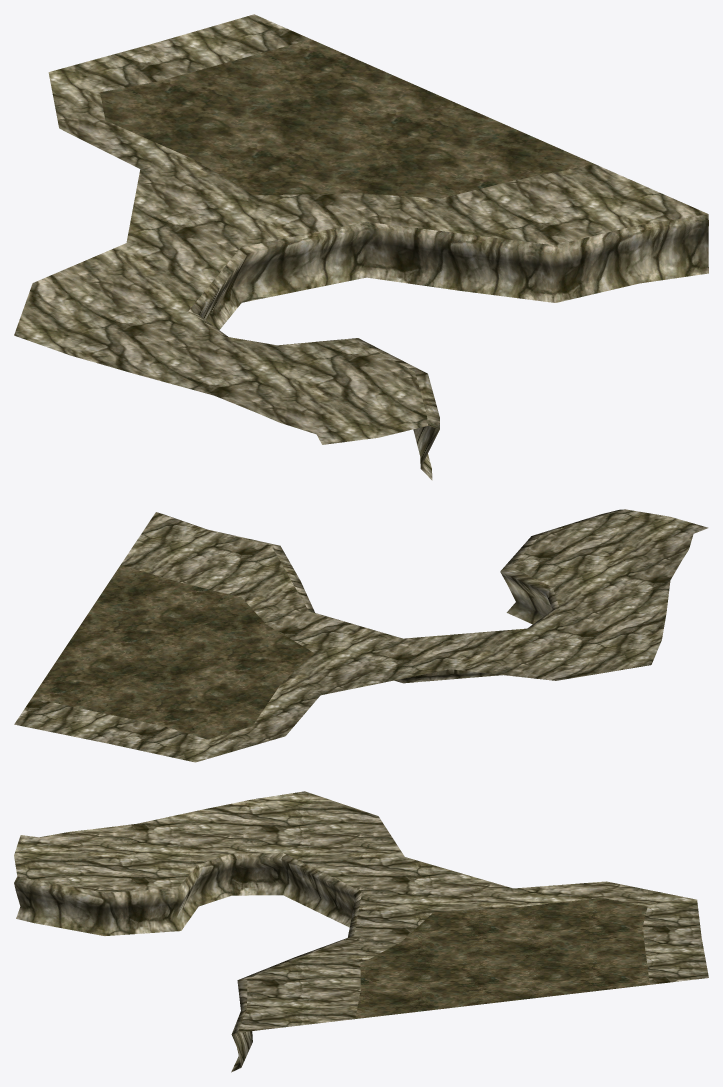
Rendered from CB_NEWPLAYSURFACE_CB_PLAYSURFACE86.fbx.
3 renders of one model, top to bottom at view 1: azimuth 30°, elevation 25°; view 2: azimuth 150°, elevation 25°; view 3: azimuth 270°, elevation 25°, orthographic. The views are drawn at different scales.
Visible parts, largest first — view 1: CB_NEWPLAYSURFACE_CB_PLAYSURFACE86; view 2: CB_NEWPLAYSURFACE_CB_PLAYSURFACE86; view 3: CB_NEWPLAYSURFACE_CB_PLAYSURFACE86.
Boxes of the visible parts, left/top/right/bottom form: CB_NEWPLAYSURFACE_CB_PLAYSURFACE86: left=14, top=14, right=708, bottom=480; CB_NEWPLAYSURFACE_CB_PLAYSURFACE86: left=14, top=509, right=708, bottom=762; CB_NEWPLAYSURFACE_CB_PLAYSURFACE86: left=14, top=791, right=708, bottom=1072.
Bounding box in the file's own units: 359777 × 31381 × 442047.
Materials: 3 (3 with a texture image).
